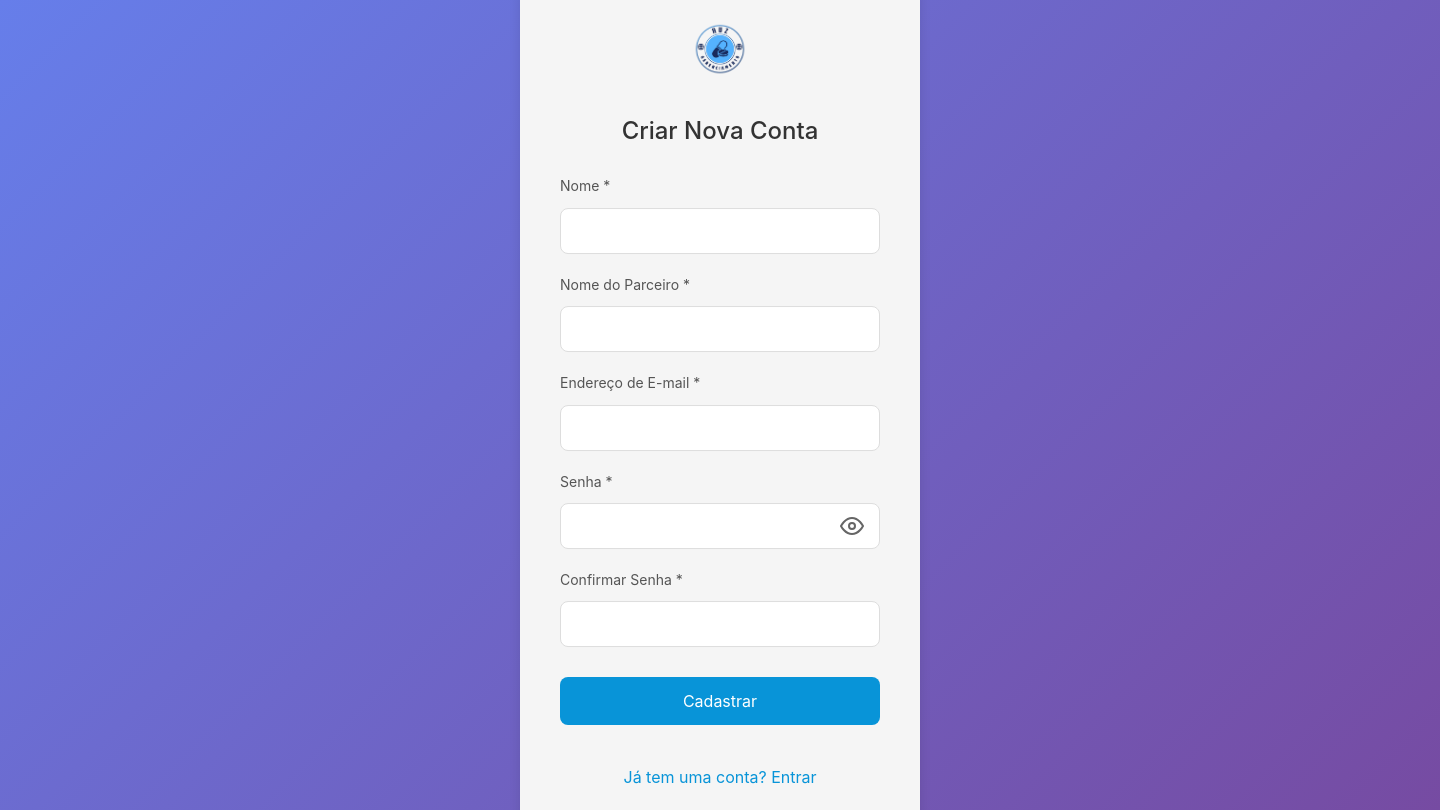
Test: Register Component › shows loading state during registration
Type "João Silva" into the field labelled "Nome *".
click(720, 231); type("João Silva")  # box [560, 208, 880, 254]
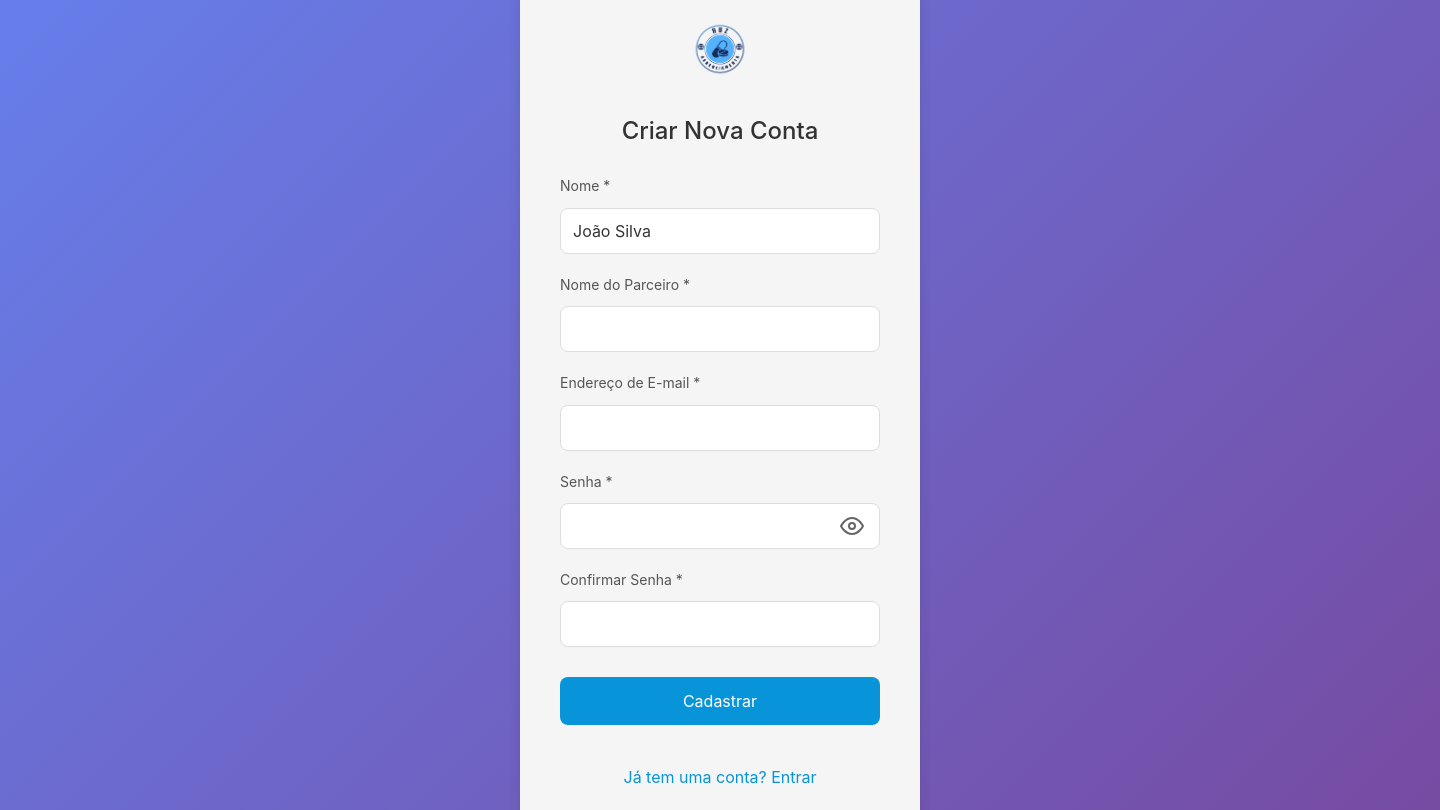
Type "Parceiro Test" into the field labelled "Nome do Parceiro *".
click(720, 329); type("Parceiro Test")  # box [560, 306, 880, 352]
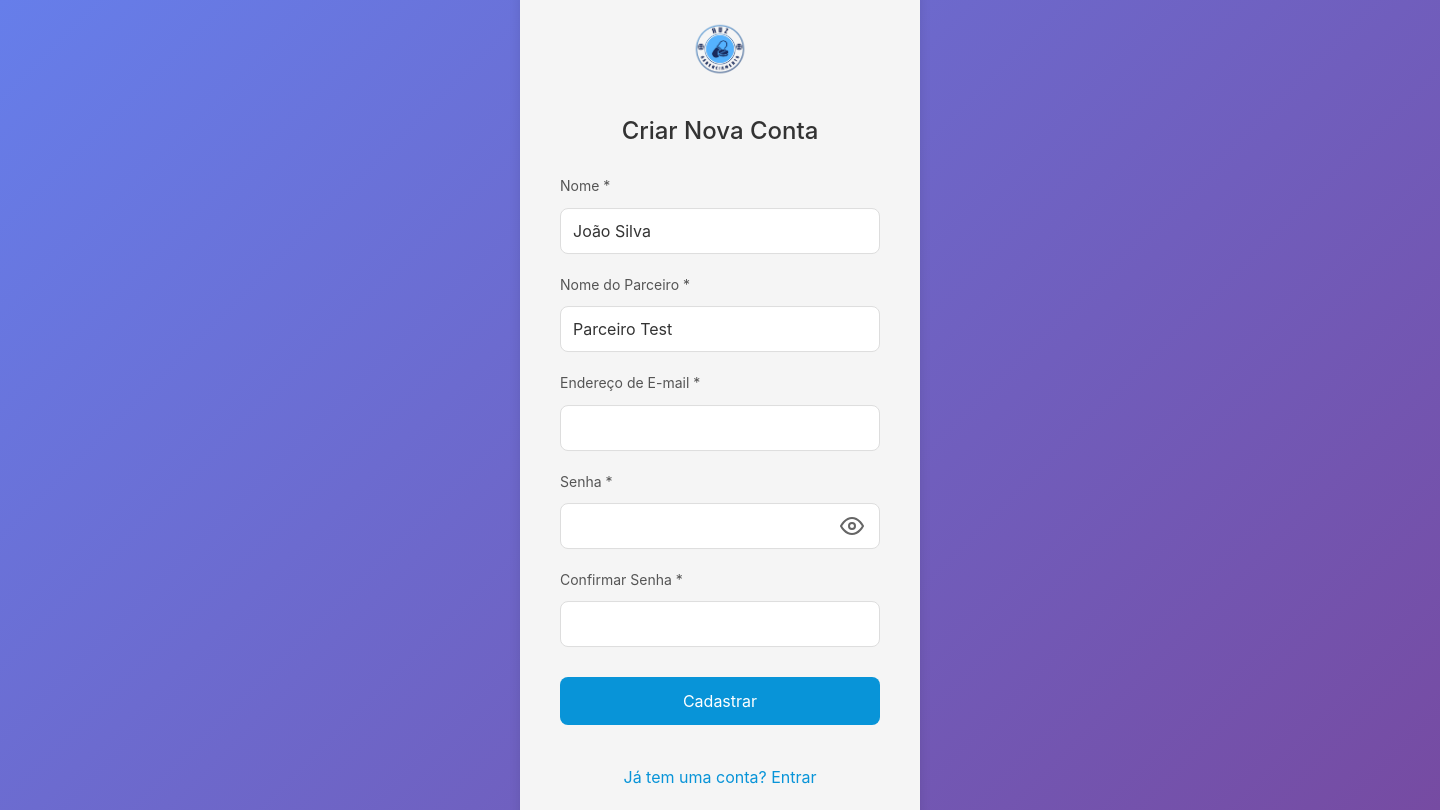
Type "test@example.com" into the field labelled "Endereço de E-mail *".
click(720, 428); type("test@example.com")  # box [560, 405, 880, 451]
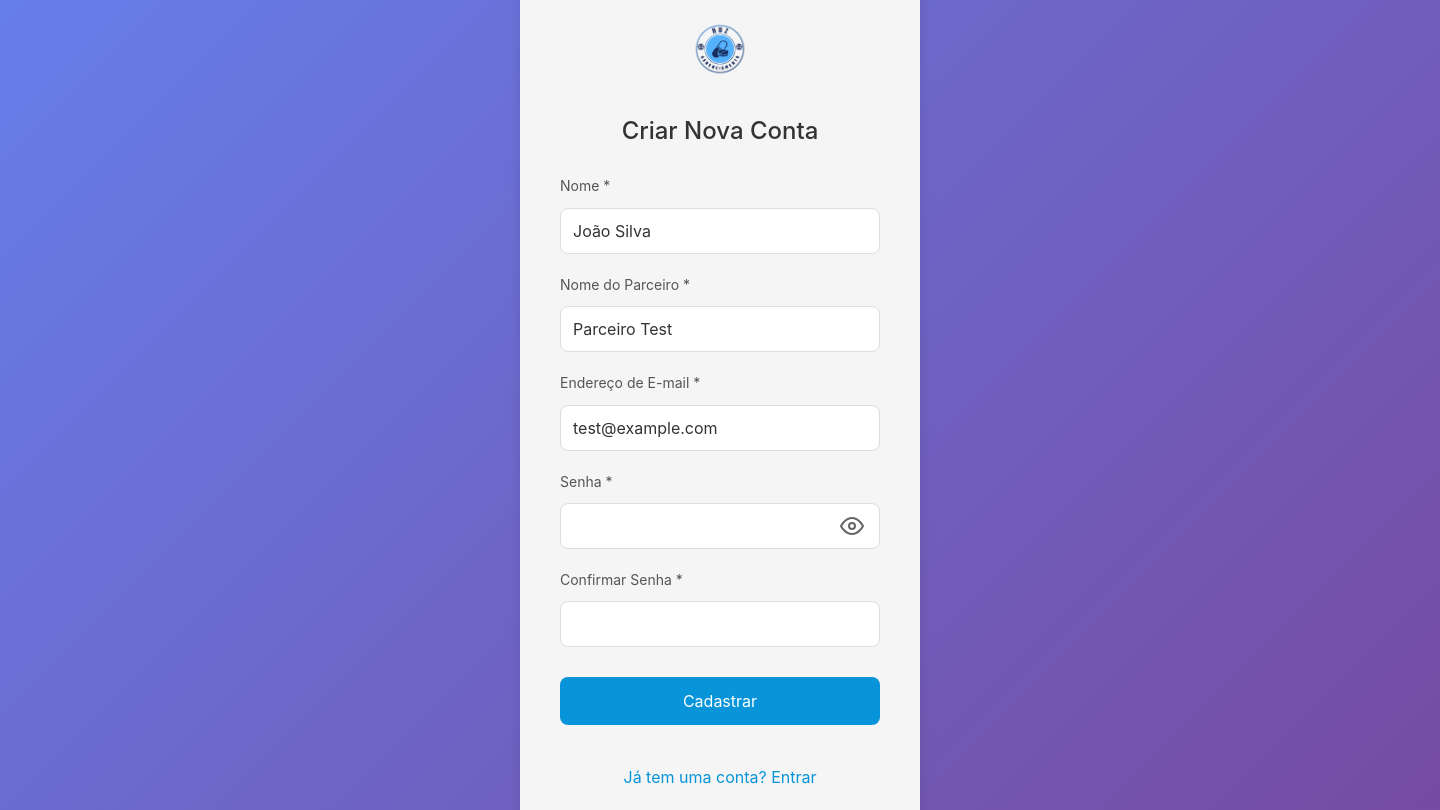
Type "password123" into the password field labelled "Senha *".
click(720, 526); type("password123")  # box [560, 503, 880, 549]
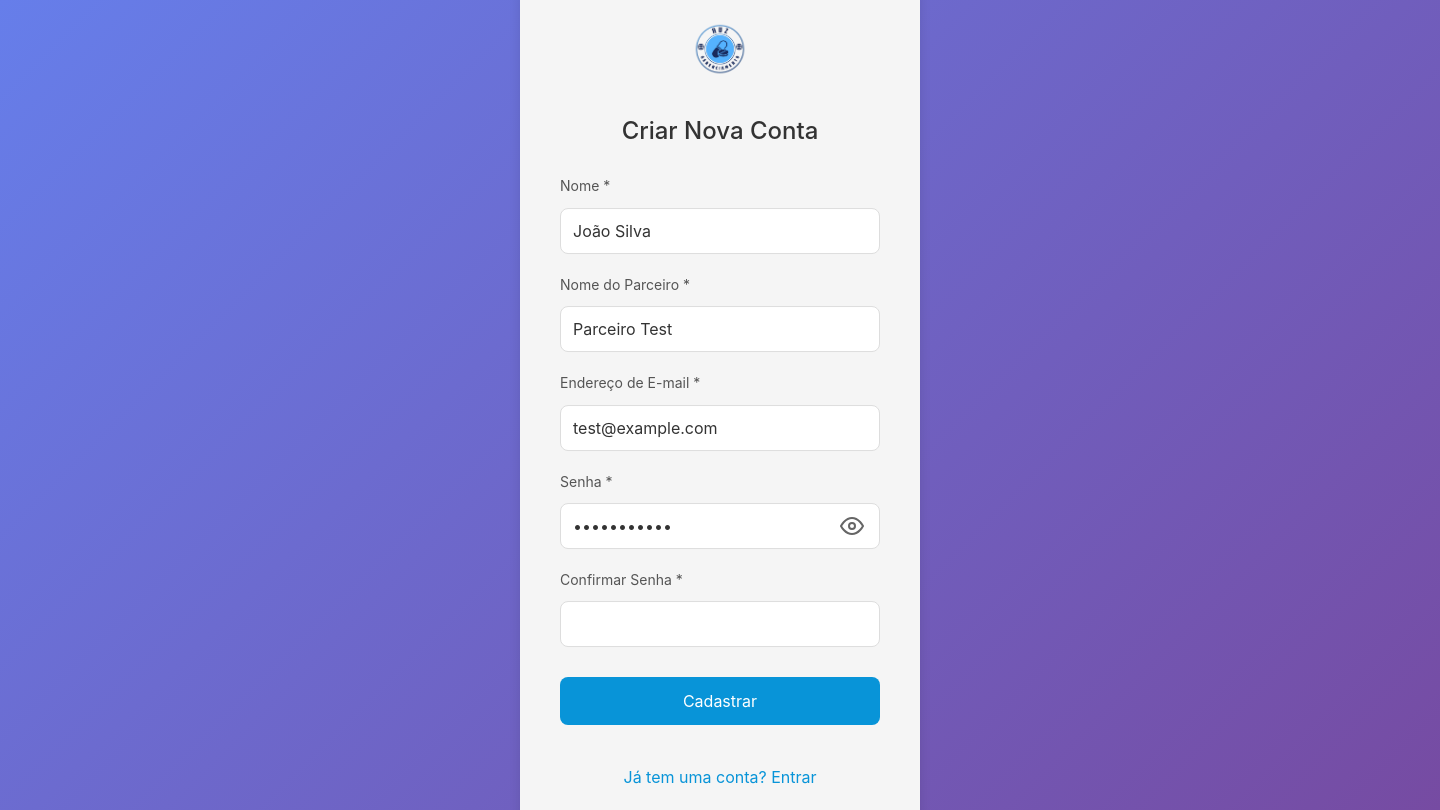
Type "password123" into the password field labelled "Confirmar Senha *".
click(720, 624); type("password123")  # box [560, 601, 880, 647]
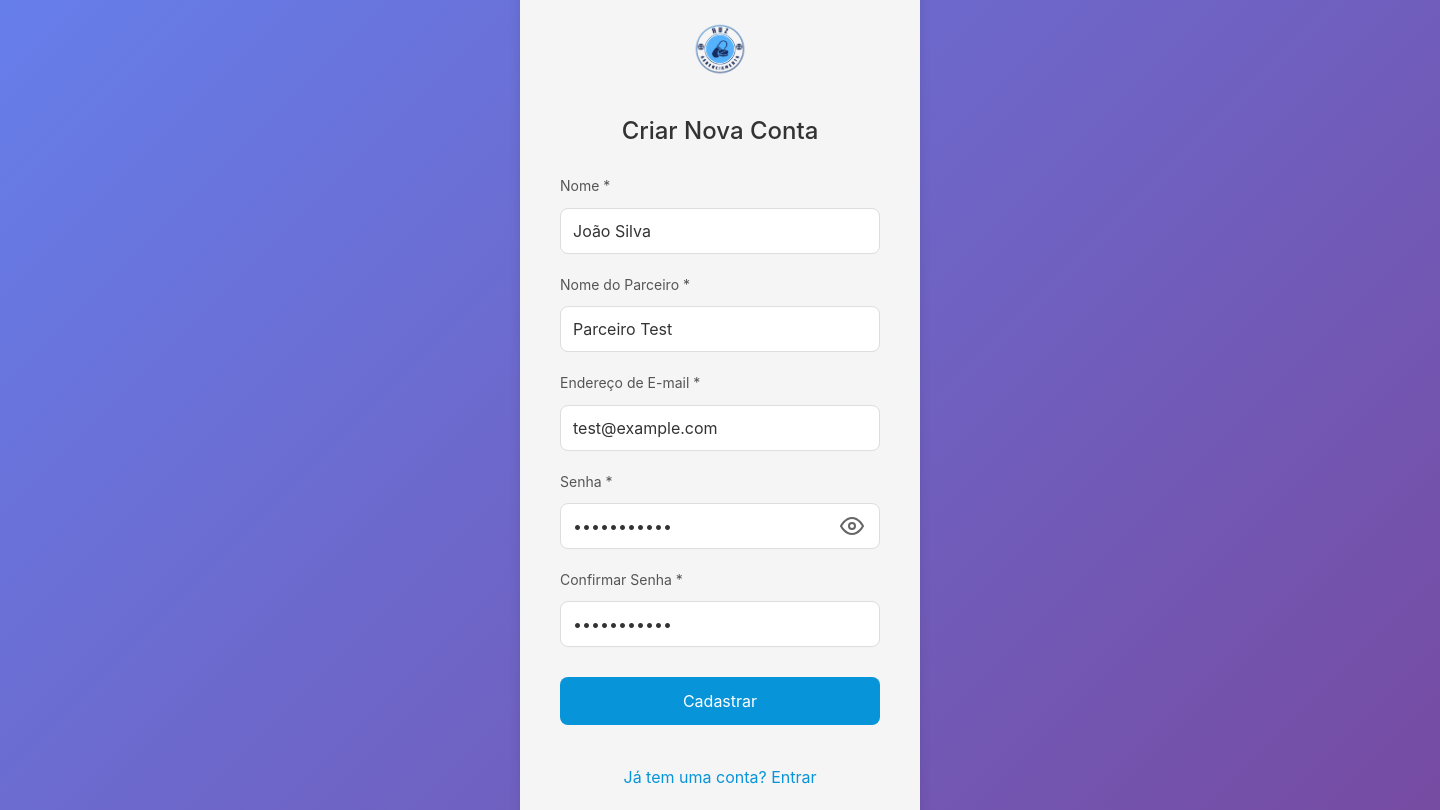
Click the button "Cadastrar".
click(720, 701)  # box [560, 677, 880, 725]
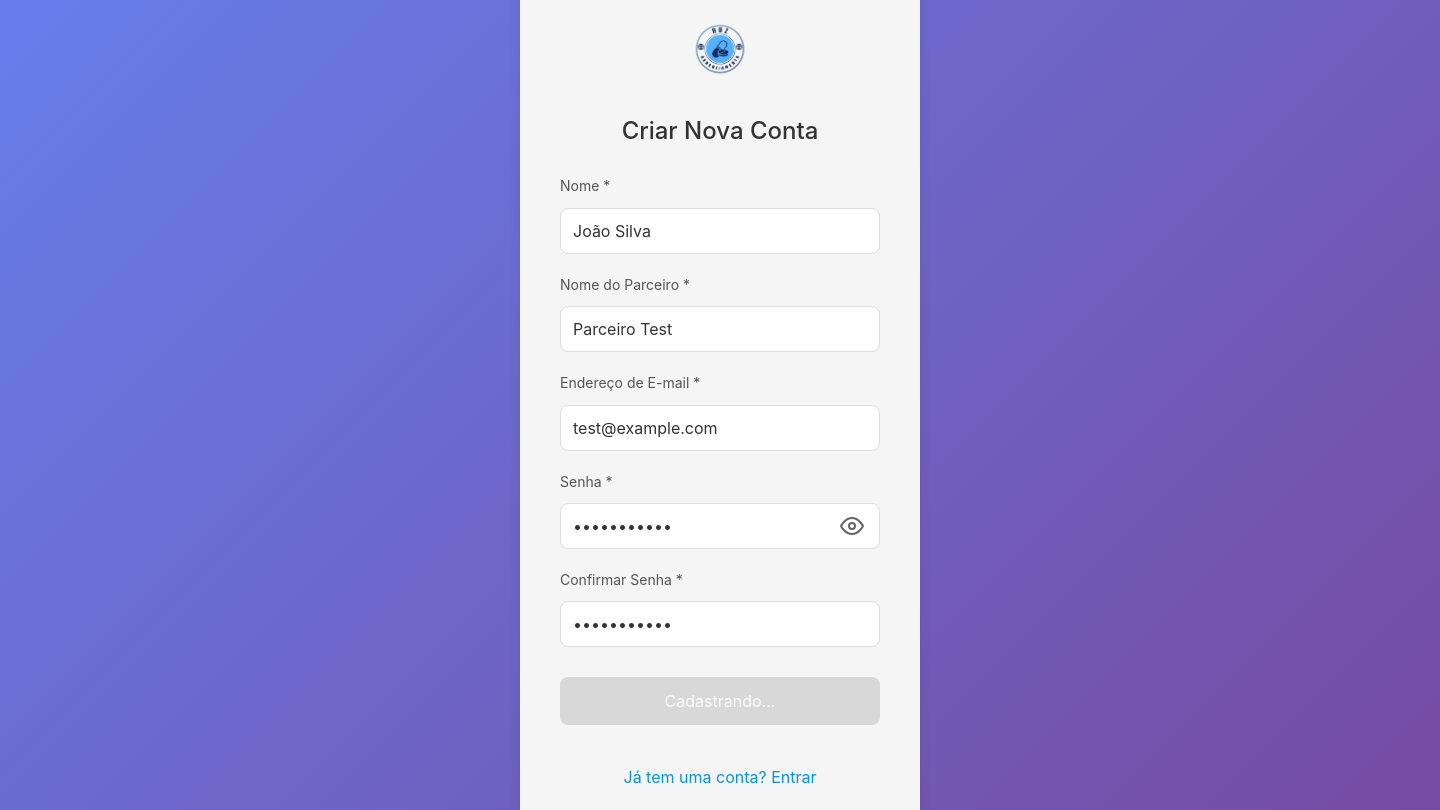
Result: the button "Cadastrando..." is disabled at [560, 677, 880, 725]
